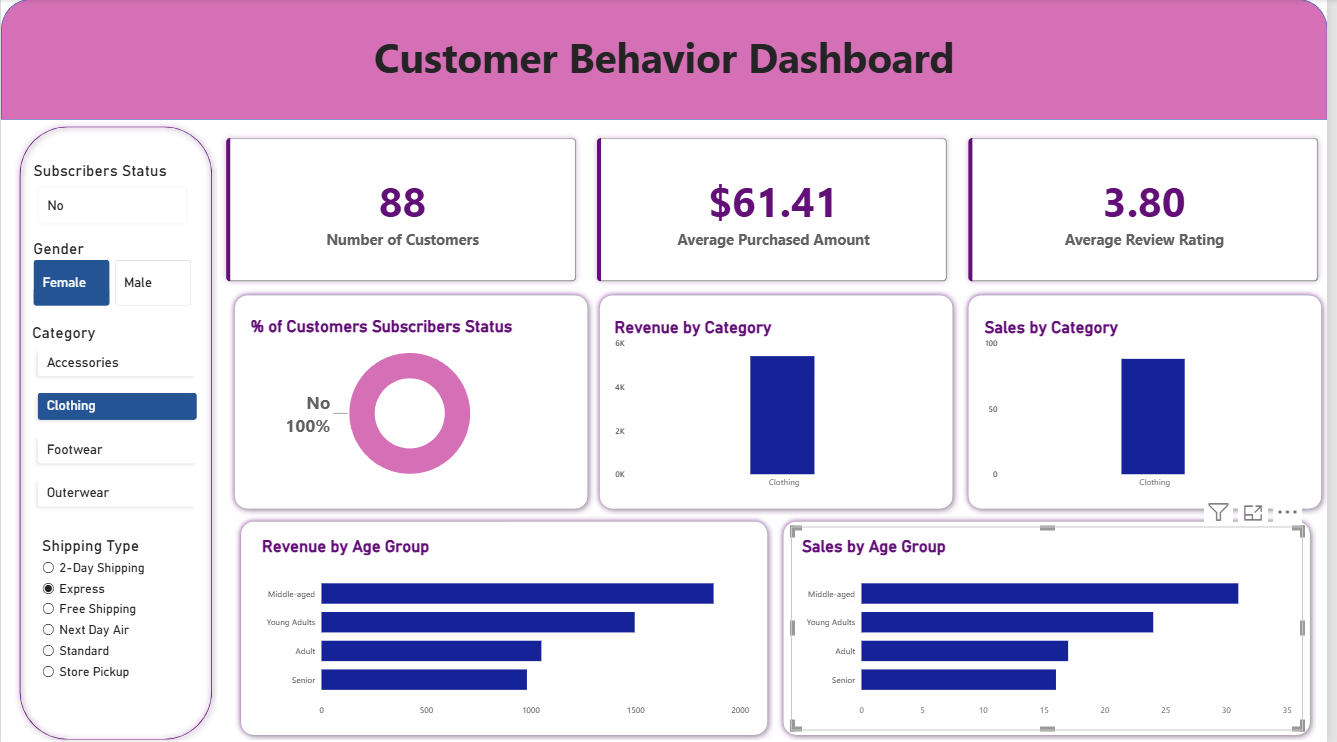

The dashboard page shown, as its layout file describes it:
{"tool":"powerbi","page":{"name":"Page 1","canvas":[1920,1080],"ordinal":0},"visuals":[{"type":"cardVisual","fields":{"Data":["public customer.Number of Customers","public customer.Average Purchased Amount","public customer.Average Review Rating"]},"box":[314.9,189.4,1605.5,230.5],"z":0},{"type":"shape","box":[0,0,1920.4,175],"z":1000},{"type":"textbox","box":[0,43.2,1920.4,115.3],"z":2000},{"type":"shape","box":[1391.4,419.9,529,327.3],"z":3000},{"type":"shape","box":[858.3,419.9,529,327.3],"z":4000},{"type":"shape","box":[329.3,419.9,529,327.3],"z":5000},{"type":"donutChart","title":"% of Customers Subscribers Status","fields":{"Category":["public customer.subscription_status"],"Y":["Count(public customer.customer_id)"]},"box":[345.6,443.4,492.2,285.9],"z":6000},{"type":"clusteredColumnChart","title":"Revenue by Category","fields":{"Category":["public customer.category"],"Y":["Sum(public customer.purchase_amount)"]},"box":[872.7,444.6,498.1,284],"z":7000},{"type":"clusteredColumnChart","title":"Sales by Category","fields":{"Category":["public customer.category"],"Y":["CountNonNull(public customer.customer_id)"]},"box":[1407.9,444.6,496.1,284],"z":8000},{"type":"shape","box":[18.5,175,296.4,905.7],"z":9000},{"type":"advancedSlicerVisual","title":"Gender","fields":{"Values":["public customer.gender"]},"box":[47.3,347.9,228.5,96.7],"z":10000},{"type":"advancedSlicerVisual","title":"Category","fields":{"Values":["public customer.category"]},"box":[45.3,469.3,247,277.9],"z":11000},{"type":"listSlicer","title":"Shipping Type","fields":{"Values":["public customer.shipping_type"]},"box":[43.2,763.6,247,273.8],"z":12000},{"type":"advancedSlicerVisual","title":"Subscribers Status","fields":{"Values":["public customer.subscription_status"]},"box":[47.3,234.6,228.5,96.7],"z":13000},{"type":"shape","box":[337.6,747.2,780.1,327.3],"z":15000},{"type":"shape","box":[1123.8,747.2,780.1,327.3],"z":16000},{"type":"clusteredBarChart","title":"Sales by Age Group","fields":{"Category":["public customer.age_group"],"Y":["CountNonNull(public customer.customer_id)"]},"box":[1144.4,763.6,741,294.3],"z":17000},{"type":"clusteredBarChart","title":"Revenue by Age Group","fields":{"Category":["public customer.age_group"],"Y":["Sum(public customer.purchase_amount)"]},"box":[362.3,763.6,736.9,294.3],"z":17500}]}

Visuals, with their boxes in screenshot pixels (x1, y1, x2, y2), scaled from the page's 1920x1080 canvas onto the 1337x742 screenshot:
cardVisual - public customer.Number of Customers x public customer.Average Purchased Amount: <bbox>219, 130, 1336, 288</bbox>
shape: <bbox>0, 0, 1336, 120</bbox>
textbox: <bbox>0, 30, 1336, 109</bbox>
shape: <bbox>969, 288, 1336, 513</bbox>
shape: <bbox>598, 288, 966, 513</bbox>
shape: <bbox>229, 288, 598, 513</bbox>
"% of Customers Subscribers Status" donutChart: <bbox>241, 305, 583, 501</bbox>
"Revenue by Category" clusteredColumnChart: <bbox>608, 305, 955, 501</bbox>
"Sales by Category" clusteredColumnChart: <bbox>980, 305, 1326, 501</bbox>
shape: <bbox>13, 120, 219, 741</bbox>
"Gender" advancedSlicerVisual: <bbox>33, 239, 192, 305</bbox>
"Category" advancedSlicerVisual: <bbox>32, 322, 204, 513</bbox>
"Shipping Type" listSlicer: <bbox>30, 525, 202, 713</bbox>
"Subscribers Status" advancedSlicerVisual: <bbox>33, 161, 192, 228</bbox>
shape: <bbox>235, 513, 778, 738</bbox>
shape: <bbox>783, 513, 1326, 738</bbox>
"Sales by Age Group" clusteredBarChart: <bbox>797, 525, 1313, 727</bbox>
"Revenue by Age Group" clusteredBarChart: <bbox>252, 525, 765, 727</bbox>
